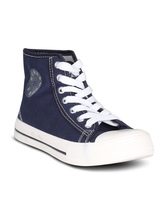shoes: (14, 45, 154, 169)
